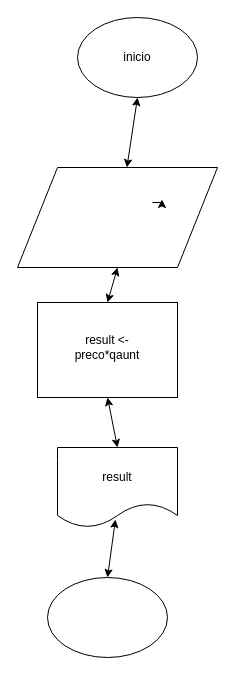
The diagram is 235 pixels wide and 675 high, and some of its shapes have lost their labels. Here are the shapes that lost their labels. From the top down, the box of each, then its label:
(16, 166, 218, 268): preco,quant,comissao,result
(46, 576, 168, 658): Text
